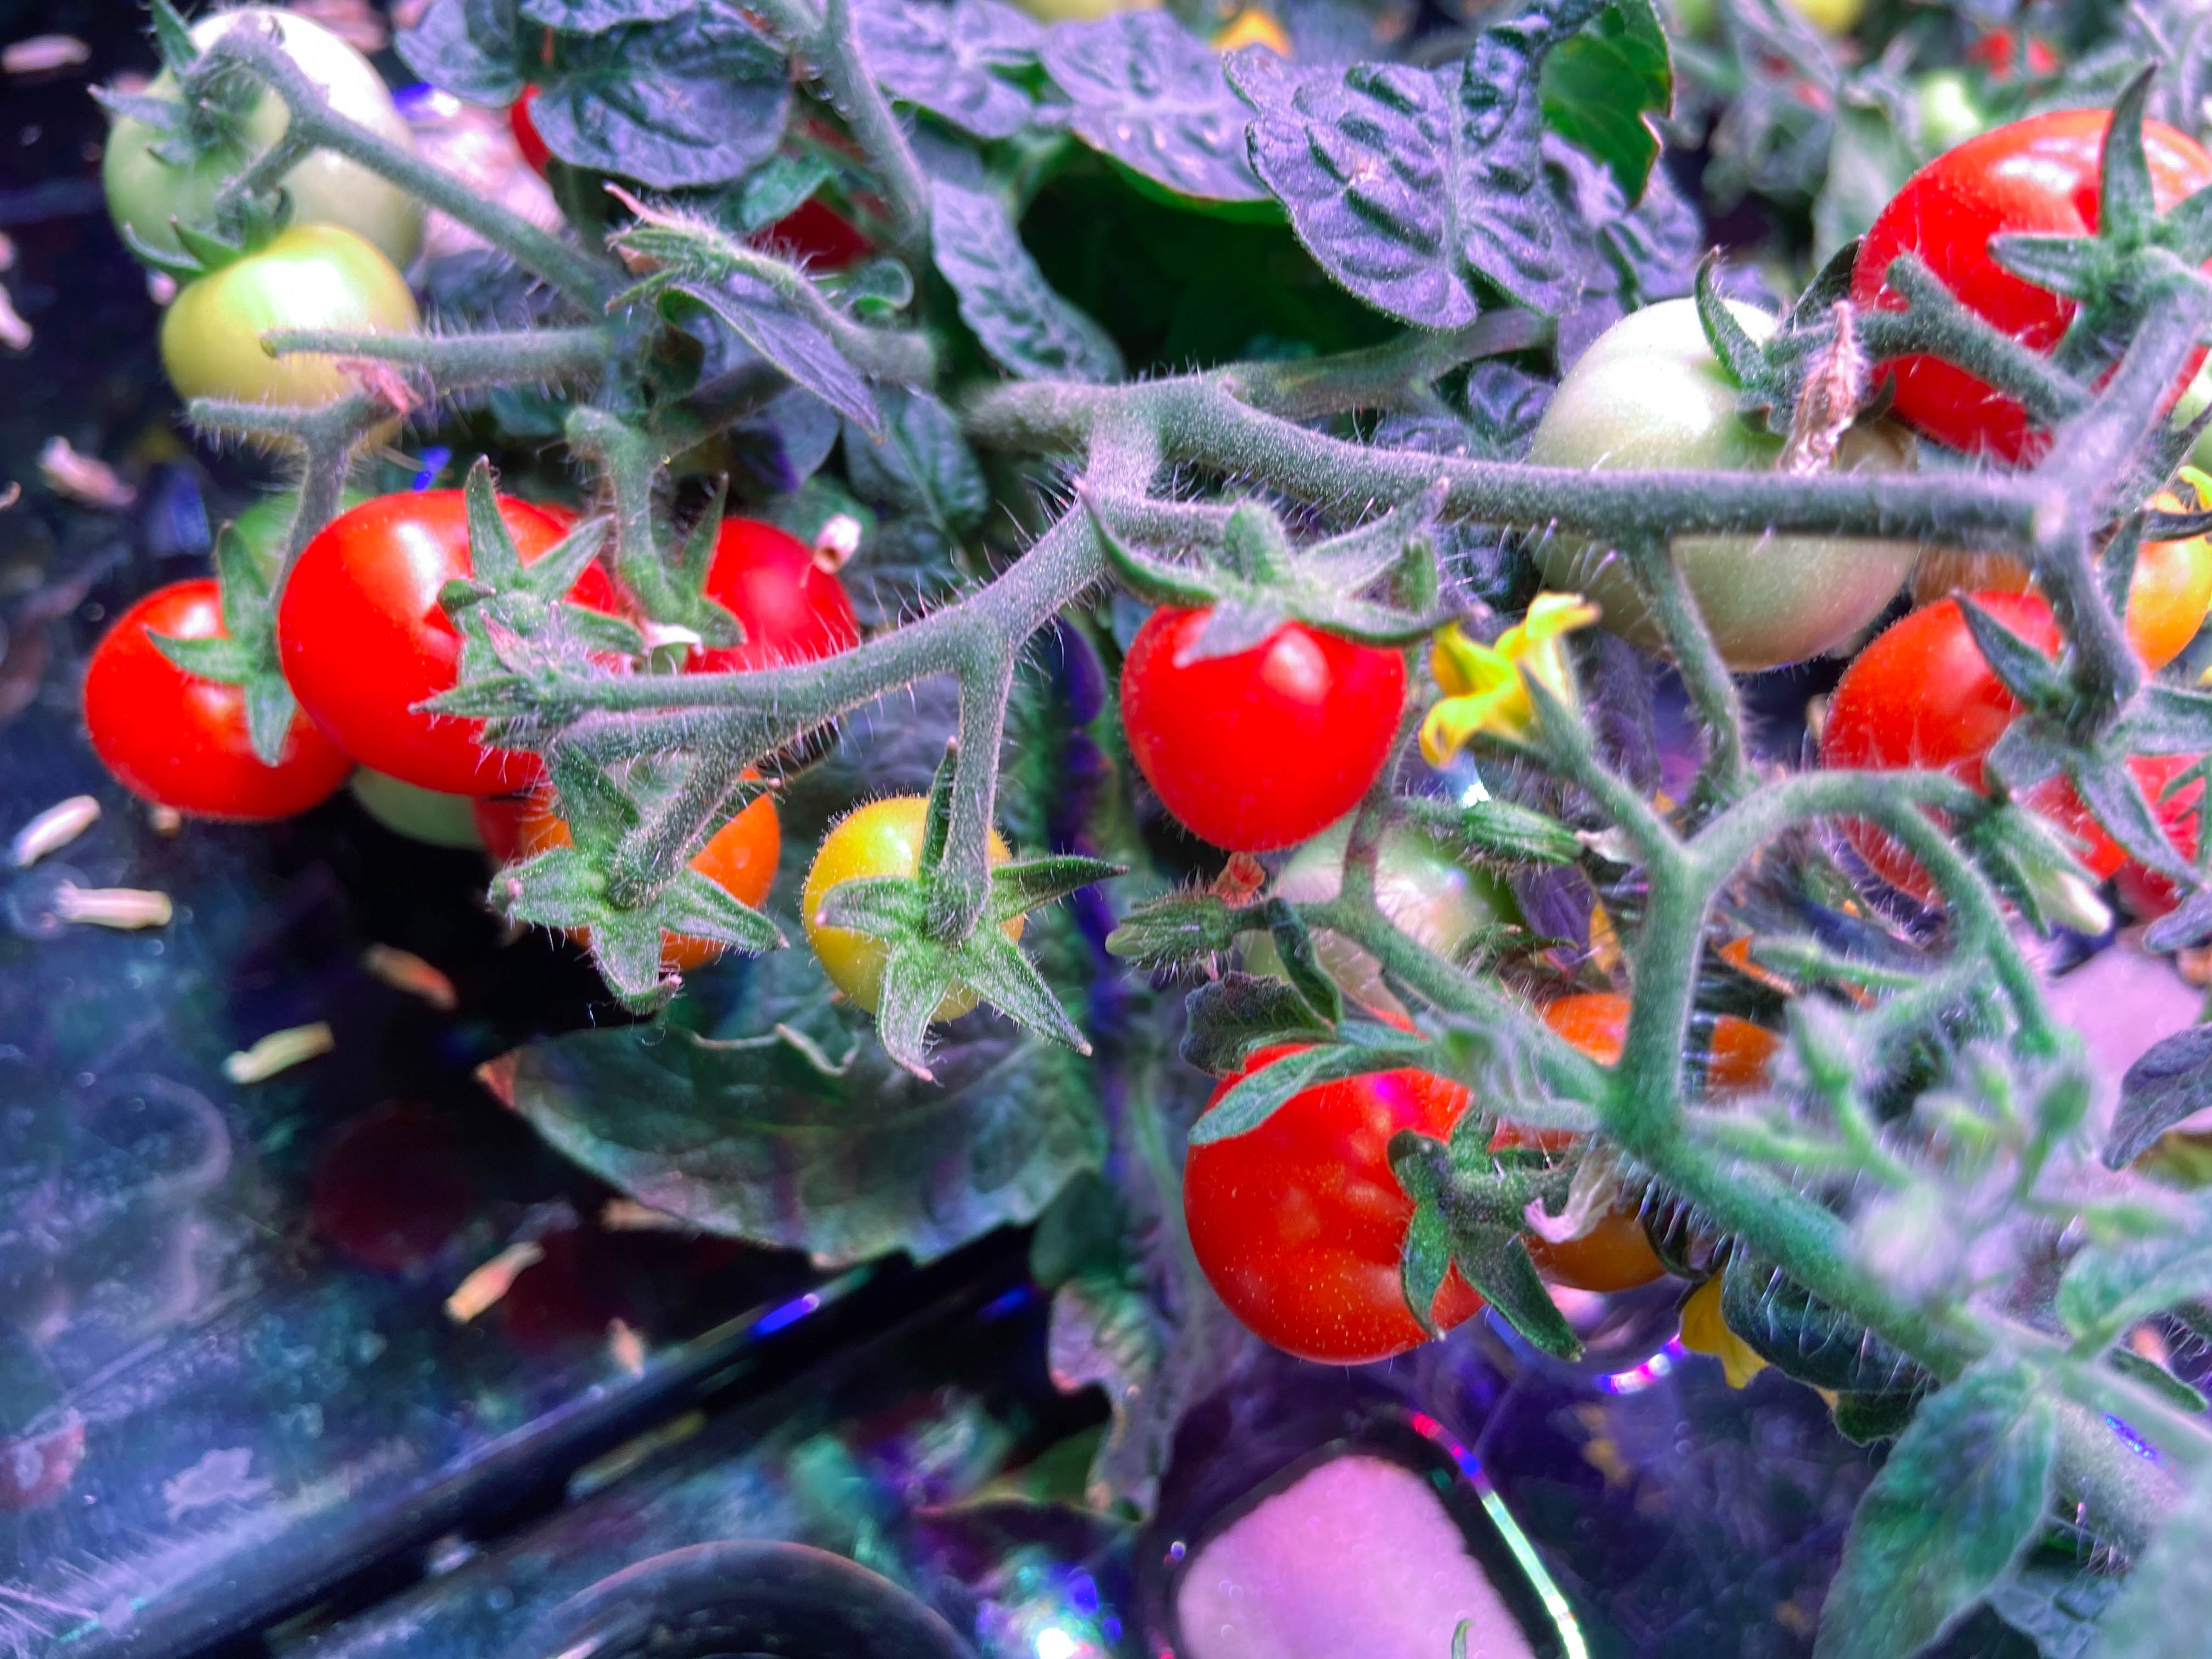green: (1527, 282, 1912, 666), (101, 5, 427, 277), (1252, 809, 1510, 1035), (347, 765, 472, 864)
red: (1858, 105, 2212, 479), (280, 481, 617, 807), (1186, 1037, 1507, 1370), (1804, 561, 2130, 885), (1482, 969, 1778, 1309), (1116, 568, 1414, 856), (78, 572, 359, 823), (157, 216, 423, 453), (519, 758, 789, 978), (799, 786, 1036, 1025), (693, 96, 921, 267), (671, 519, 864, 685), (2067, 737, 2212, 922), (2074, 498, 2212, 676), (1750, 49, 1862, 124), (1958, 19, 2071, 84), (465, 791, 535, 854)
